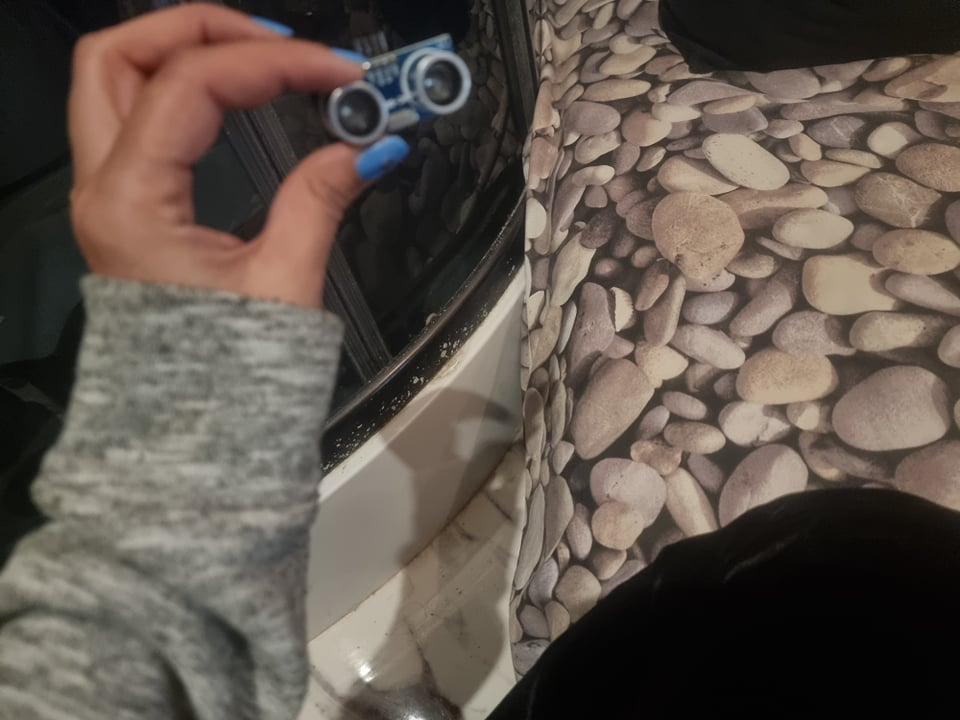SENSOR: (311, 45, 478, 145)
